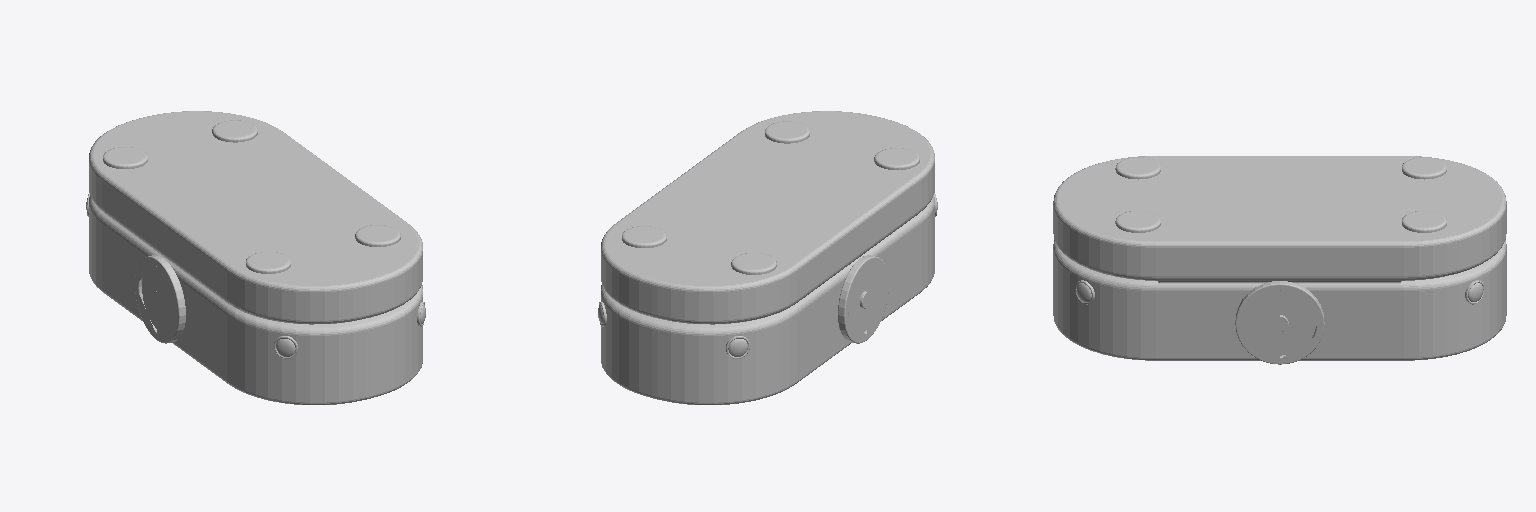
The picture shows the model from 3 angles: view 1: azimuth 30°, elevation 25°; view 2: azimuth 150°, elevation 25°; view 3: azimuth 270°, elevation 25°; orthographic projection.
Parts seen in each view (by area): view 1: Cube, luntai_Cylinder.003, fanhuadian4_Cylinder.011, fanhuadian1_Cylinder.013, fanhuadian3_Cylinder.010, fanhuadian2_Cylinder.012, lunban_Cylinder.006; view 2: Cube, luntai_Cylinder.003, fanhuadian3_Cylinder.010, fanhuadian2_Cylinder.012, fanhuadian1_Cylinder.013, fanhuadian4_Cylinder.011, lunban_Cylinder.006; view 3: Cube, luntai.001_Cylinder.007, lunban.001_Cylinder.009, fanhuadian1_Cylinder.013, fanhuadian4_Cylinder.011, fanhuadian2_Cylinder.012, fanhuadian3_Cylinder.010.
Boxes of the visible parts, x1=… form: Cube: x1=89, y1=111, x2=422, y2=404; luntai_Cylinder.003: x1=135, y1=255, x2=185, y2=343; fanhuadian4_Cylinder.011: x1=212, y1=120, x2=257, y2=142; fanhuadian1_Cylinder.013: x1=355, y1=225, x2=400, y2=246; fanhuadian3_Cylinder.010: x1=103, y1=147, x2=147, y2=168; fanhuadian2_Cylinder.012: x1=246, y1=252, x2=290, y2=273; lunban_Cylinder.006: x1=142, y1=267, x2=156, y2=328; Cube: x1=601, y1=111, x2=934, y2=404; luntai_Cylinder.003: x1=838, y1=255, x2=888, y2=343; fanhuadian3_Cylinder.010: x1=731, y1=253, x2=776, y2=274; fanhuadian2_Cylinder.012: x1=874, y1=148, x2=919, y2=169; fanhuadian1_Cylinder.013: x1=765, y1=121, x2=809, y2=143; fanhuadian4_Cylinder.011: x1=622, y1=226, x2=666, y2=247; lunban_Cylinder.006: x1=849, y1=267, x2=866, y2=331; Cube: x1=1053, y1=156, x2=1506, y2=360; luntai.001_Cylinder.007: x1=1235, y1=281, x2=1324, y2=364; lunban.001_Cylinder.009: x1=1280, y1=291, x2=1315, y2=355; fanhuadian1_Cylinder.013: x1=1115, y1=211, x2=1160, y2=232; fanhuadian4_Cylinder.011: x1=1402, y1=211, x2=1446, y2=232; fanhuadian2_Cylinder.012: x1=1115, y1=157, x2=1160, y2=179; fanhuadian3_Cylinder.010: x1=1402, y1=157, x2=1446, y2=179.
Size of the model in its own units: 2.09 by 1.24 by 4.12.